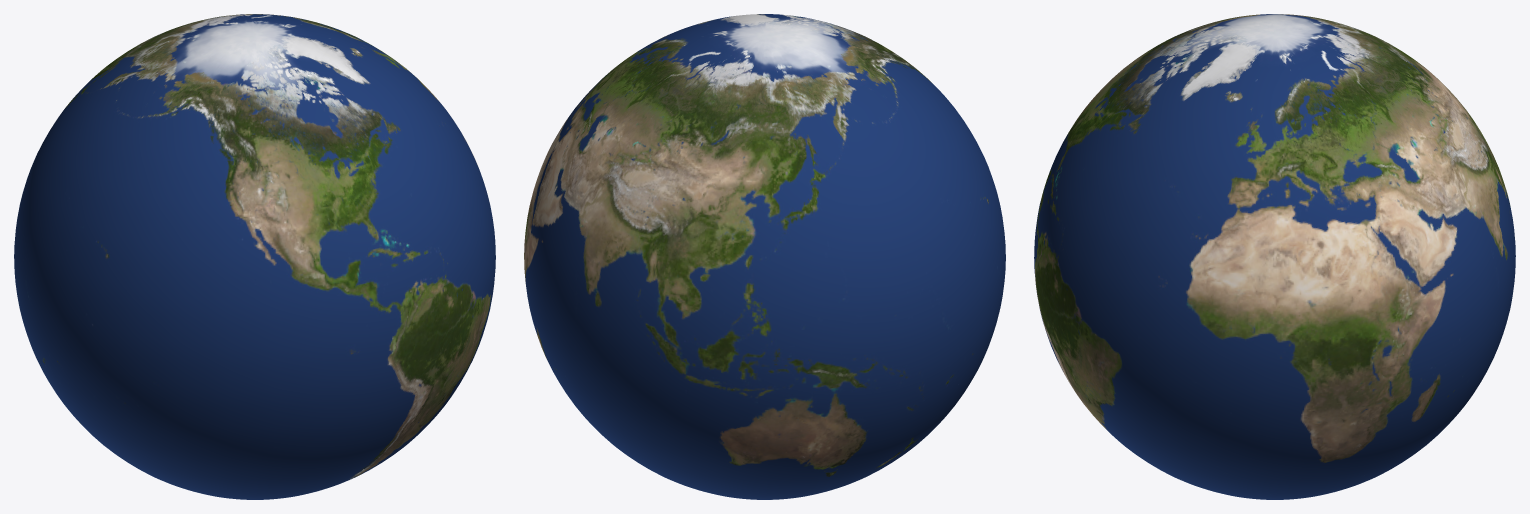
File: earth_low.glb
The picture shows the model from 3 angles, left to right: view 1: azimuth 30°, elevation 25°; view 2: azimuth 150°, elevation 25°; view 3: azimuth 270°, elevation 25°; orthographic projection.
Visible parts, largest first — view 1: Sphere; view 2: Sphere; view 3: Sphere.
Part boxes in pixels (box(x1,y1,x2,y2)): Sphere: box(14, 14, 495, 499); Sphere: box(524, 14, 1005, 499); Sphere: box(1034, 14, 1515, 499).
Bounding box in the file's own units: 1.98 × 2.02 × 1.98.
1 material, 1 textured.
